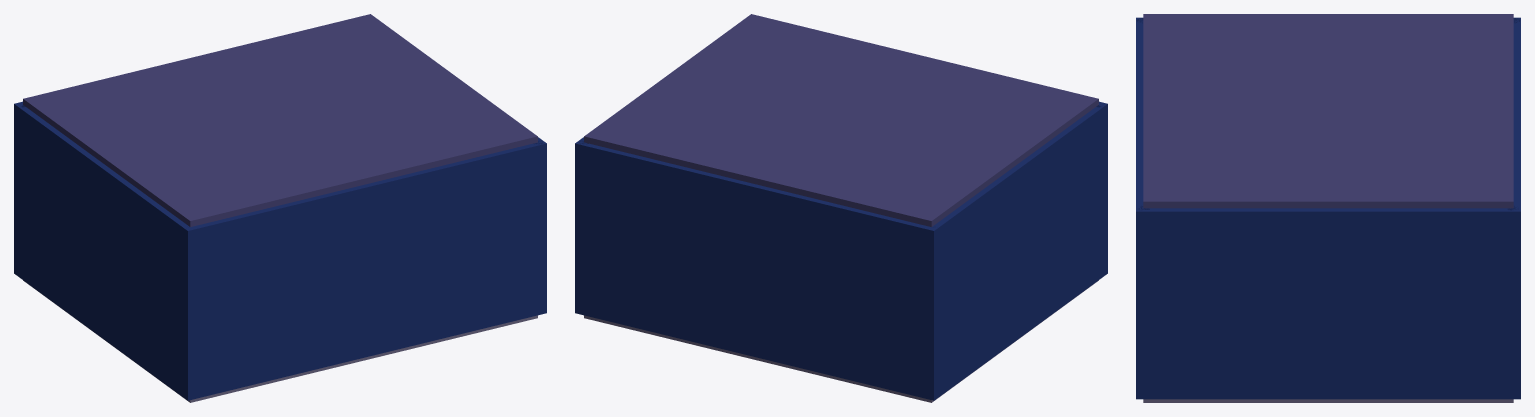
File: sala2.glb
3 renders of one model, left to right at view 1: azimuth 30°, elevation 25°; view 2: azimuth 150°, elevation 25°; view 3: azimuth 270°, elevation 25°, orthographic. The views are drawn at different scales.
Parts seen in each view (by area): view 1: parede_frente, teto, parede_-1, chao, parede_fundo; view 2: parede_fundo, teto, parede_-1, chao, parede_frente; view 3: teto, parede_1, parede_fundo, parede_frente, chao.
Boxes of the visible parts, x1,y1,x2,y2 form: parede_frente: (184,141,546,400); teto: (23,14,537,226); parede_-1: (17,105,189,397); chao: (23,280,537,402); parede_fundo: (14,101,22,275); parede_fundo: (575,141,937,400); teto: (584,14,1098,226); parede_-1: (932,105,1104,397); chao: (584,280,1098,402); parede_frente: (1099,101,1107,275); teto: (1143,14,1513,208); parede_1: (1143,208,1513,399); parede_fundo: (1513,17,1520,399); parede_frente: (1136,17,1143,399); chao: (1143,399,1513,402).
Bounding box in the file's own units: 6.2 × 3 × 5.2.
